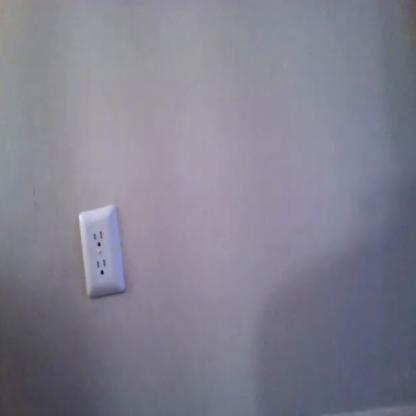OUTLET: (78, 205, 127, 295)
